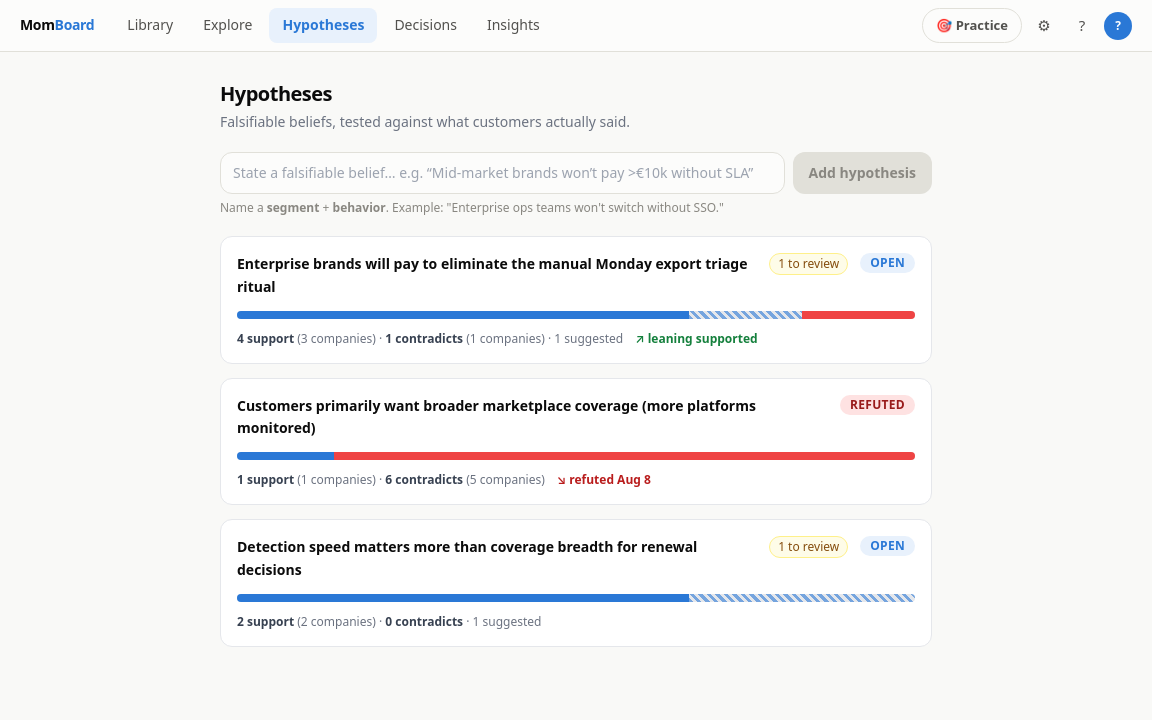
Scenario: T28: Hypotheses board — evidence expansion › each evidence quote shows the quote text in blockquote style
Click the text "Enterprise brands will pay" at (492, 264), box [237, 254, 748, 296]
(page scrolled)
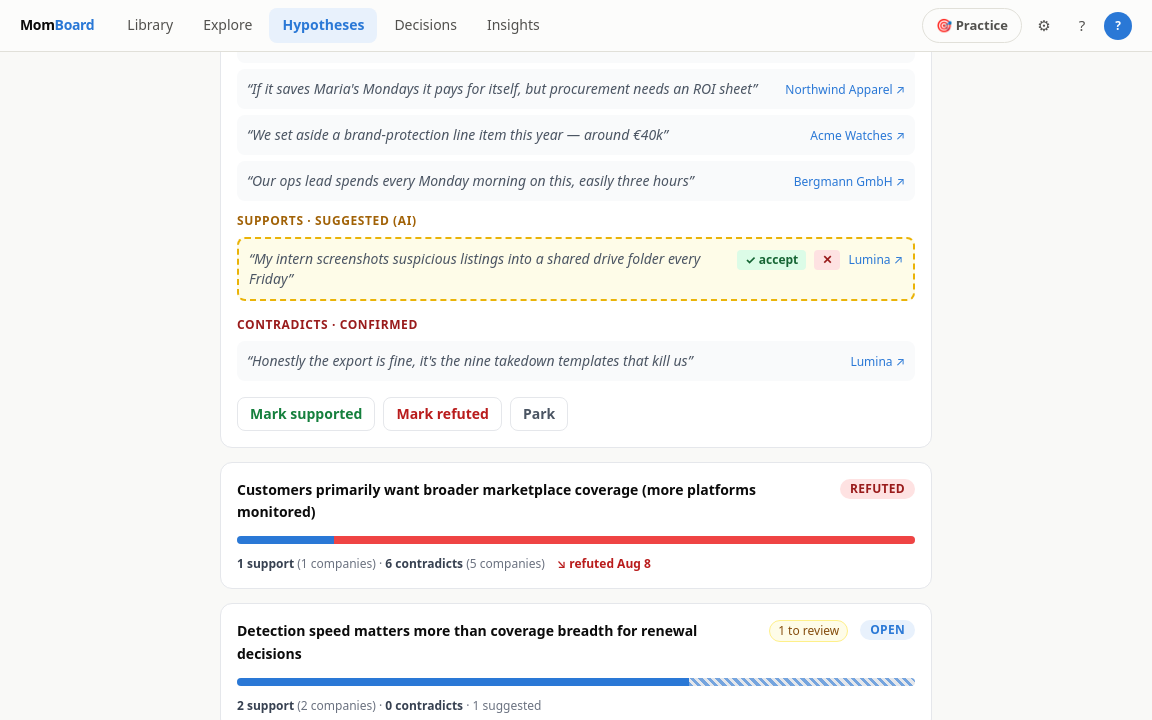
Expected: the text "Every Monday I export all flagged listings" is shown, [252, 32, 732, 52]
Now the text "Honestly the export is fine" is shown, box [252, 350, 688, 370]
